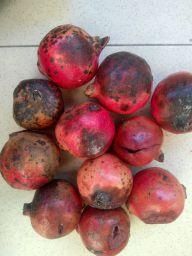pomegranate: (38, 23, 110, 89), (84, 51, 153, 114), (20, 179, 82, 239), (0, 130, 61, 189), (129, 167, 187, 225), (56, 103, 116, 159), (77, 154, 133, 209), (75, 204, 131, 256), (13, 78, 64, 129), (113, 116, 164, 166), (152, 72, 192, 133)
